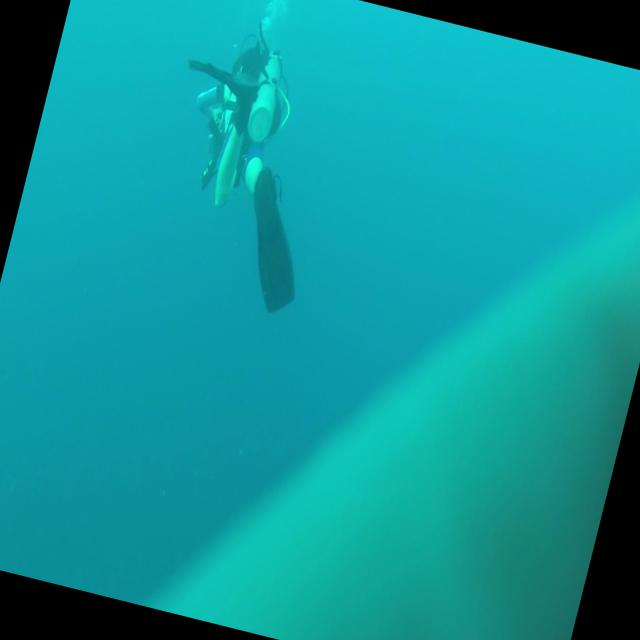human: (132, 4, 358, 318)
